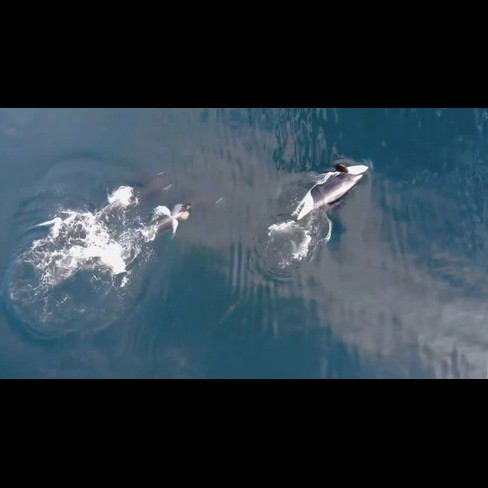orca: (18, 160, 195, 273), (80, 179, 241, 287), (257, 158, 373, 265)
